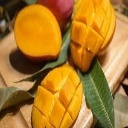mango: (13, 4, 61, 62)
